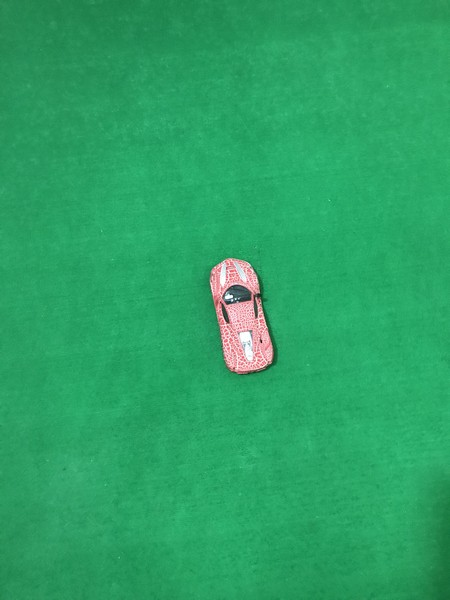RC: (207, 256, 279, 377)
